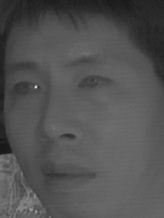eye: (73, 70, 115, 96), (8, 78, 45, 101)
mouth: (36, 153, 100, 193)
